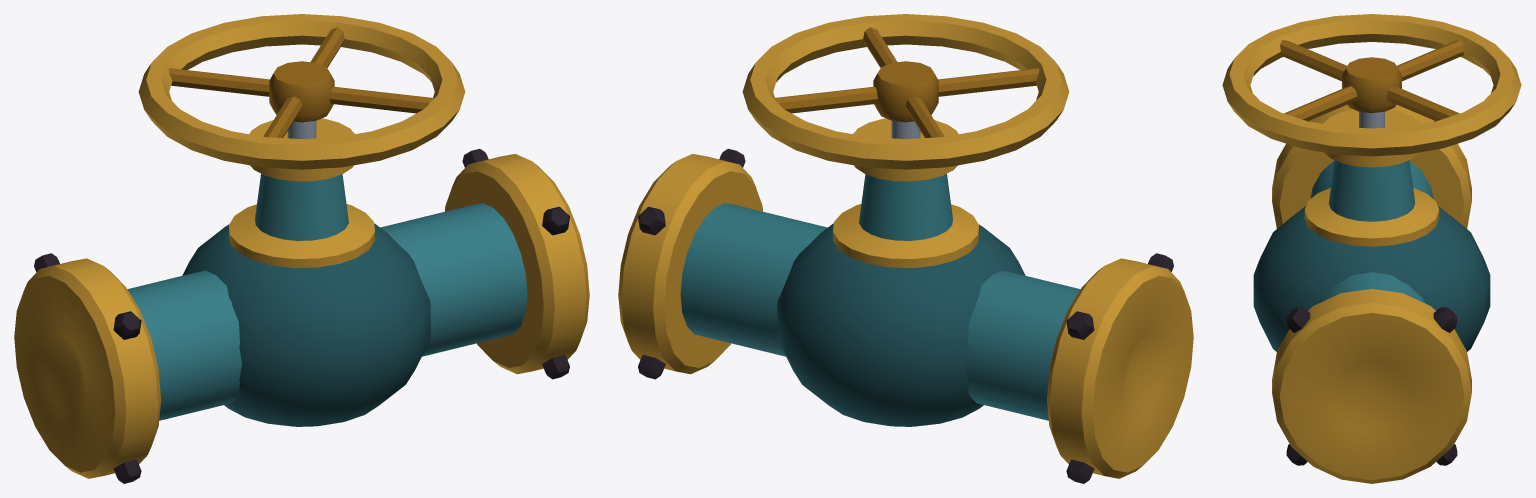
The model's file is Valve_15.glb.
3 views of the same model, side by side, from view 1: azimuth 30°, elevation 25°; view 2: azimuth 150°, elevation 25°; view 3: azimuth 270°, elevation 25° (orthographic). The views are drawn at different scales.
Parts seen in each view (by area): view 1: Valve_15; view 2: Valve_15; view 3: Valve_15.
Boxes of the visible parts, left/top/right/bottom form: Valve_15: left=14, top=14, right=589, bottom=483; Valve_15: left=618, top=14, right=1193, bottom=483; Valve_15: left=1222, top=14, right=1521, bottom=483.
Bounding box in the file's own units: 2.69 × 1.85 × 1.6.
